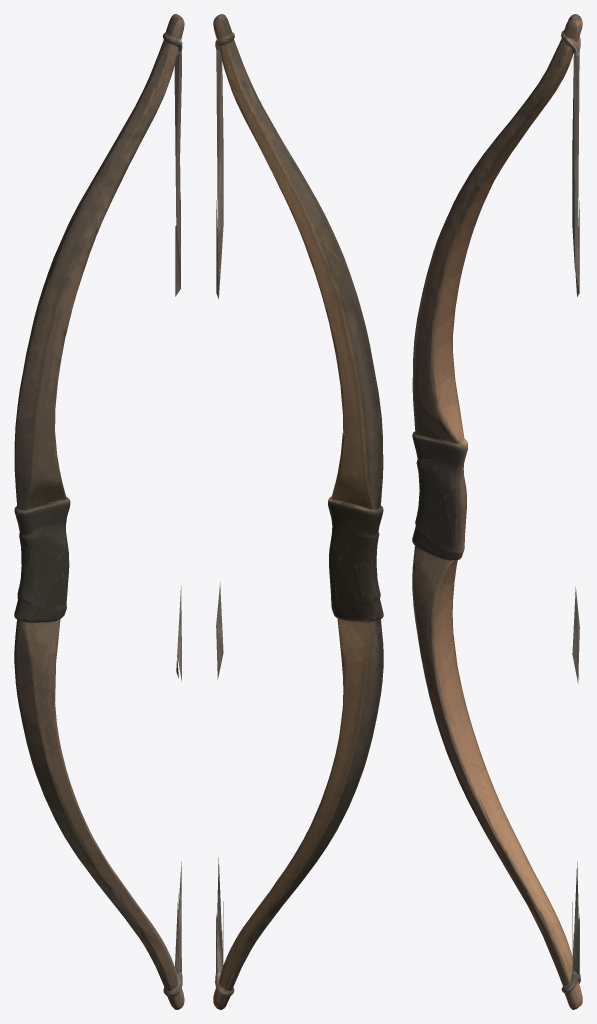
File: bow.glb
3 views of the same model, side by side, from view 1: azimuth 30°, elevation 25°; view 2: azimuth 150°, elevation 25°; view 3: azimuth 330°, elevation 25° (orthographic).
Size of the model in its own units: 0.3377 by 1.9 by 0.0748.
1 material, 1 textured.
